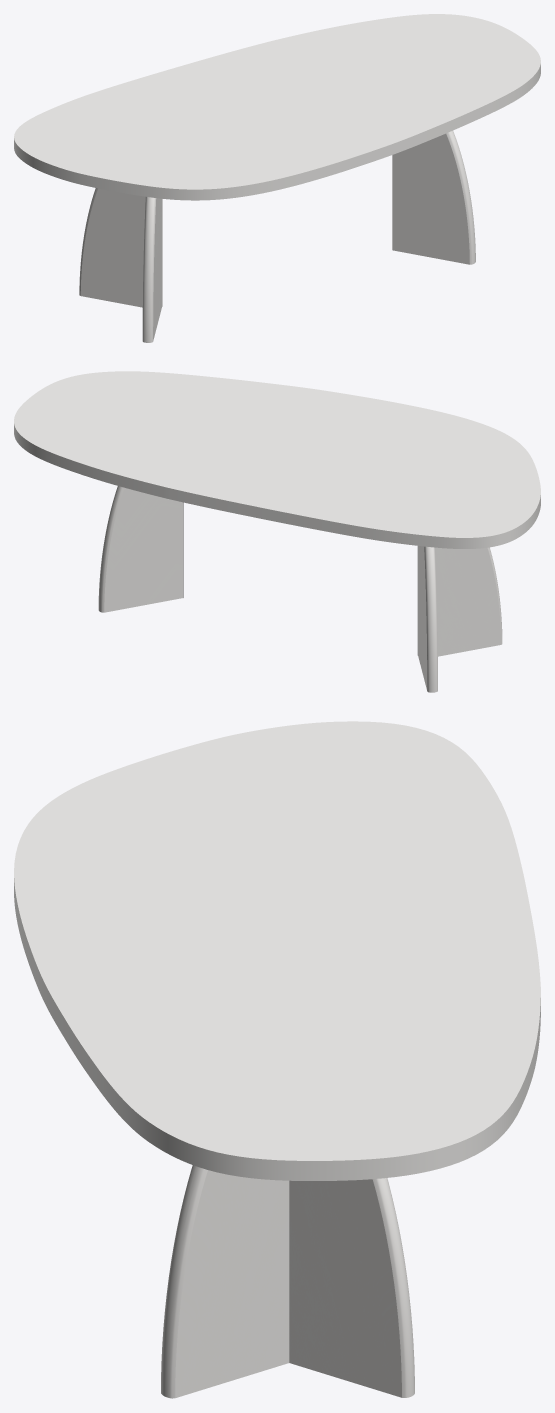
File: purewhite_leaf2_standard_newtable2.glb
The picture shows the model from 3 angles, top to bottom: view 1: azimuth 30°, elevation 25°; view 2: azimuth 150°, elevation 25°; view 3: azimuth 270°, elevation 25°; orthographic projection. The views are drawn at different scales.
Parts seen in each view (by area): view 1: standard_leaf2, newtable2_singleright2, newtable2_singleleft1, newtable2_singleright1; view 2: standard_leaf2, newtable2_singleleft2, newtable2_singleright1, newtable2_singleleft1; view 3: standard_leaf2, newtable2_singleright2, newtable2_singleleft2.
Boxes of the visible parts, x1,y1,x2,y2 form: standard_leaf2: [14, 14, 540, 200]; newtable2_singleright2: [392, 130, 475, 264]; newtable2_singleleft1: [79, 188, 162, 307]; newtable2_singleright1: [142, 197, 162, 342]; standard_leaf2: [14, 371, 540, 548]; newtable2_singleleft2: [98, 486, 182, 612]; newtable2_singleright1: [417, 546, 502, 656]; newtable2_singleleft1: [418, 546, 437, 692]; standard_leaf2: [14, 721, 540, 1180]; newtable2_singleright2: [161, 1165, 289, 1398]; newtable2_singleleft2: [289, 1178, 414, 1397].
Size of the model in its own units: 7.5 by 2.51 by 3.8.
Materials: 1 (1 with a texture image).
